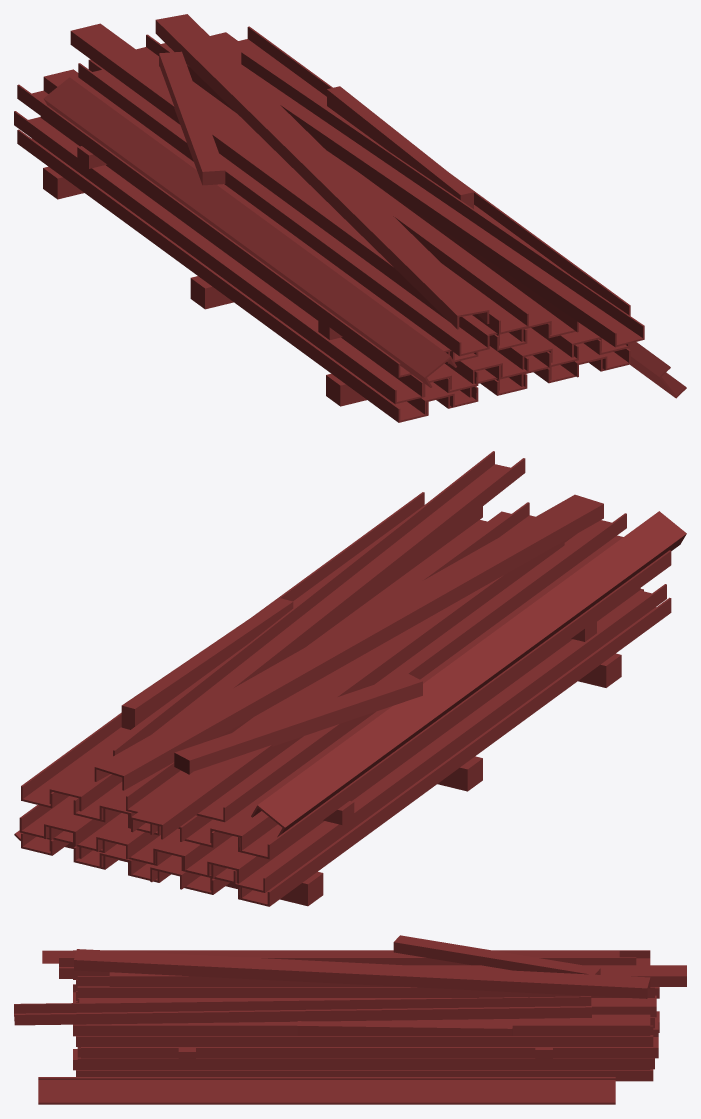
File: SM_SteelBeam02Pack04.fbx
3 renders of one model, top to bottom at view 1: azimuth 30°, elevation 25°; view 2: azimuth 150°, elevation 25°; view 3: azimuth 270°, elevation 25°, orthographic. The views are drawn at different scales.
Visible parts, largest first — view 1: SteelBeam02Pack04; view 2: SteelBeam02Pack04; view 3: SteelBeam02Pack04.
Part boxes in pixels (x1,y1,x2,y2): SteelBeam02Pack04: [14, 14, 686, 422]; SteelBeam02Pack04: [14, 451, 686, 906]; SteelBeam02Pack04: [14, 935, 686, 1104].
Bounding box in the file's own units: 124 × 48.31 × 350.
